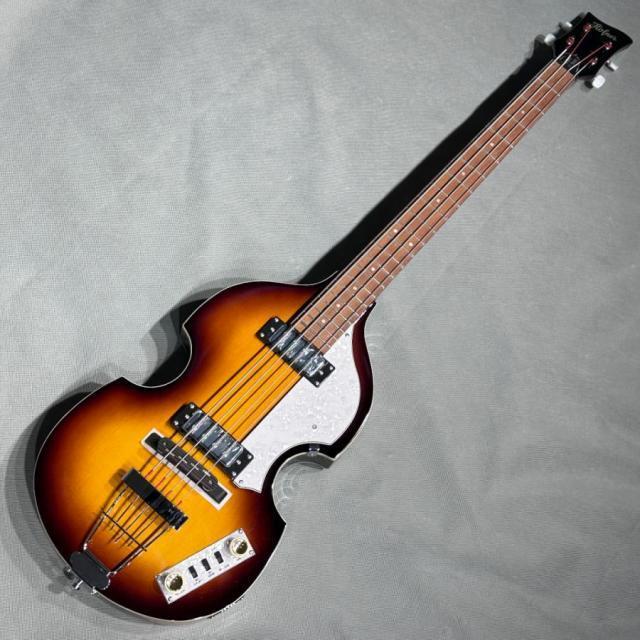bass: (34, 14, 630, 619)
